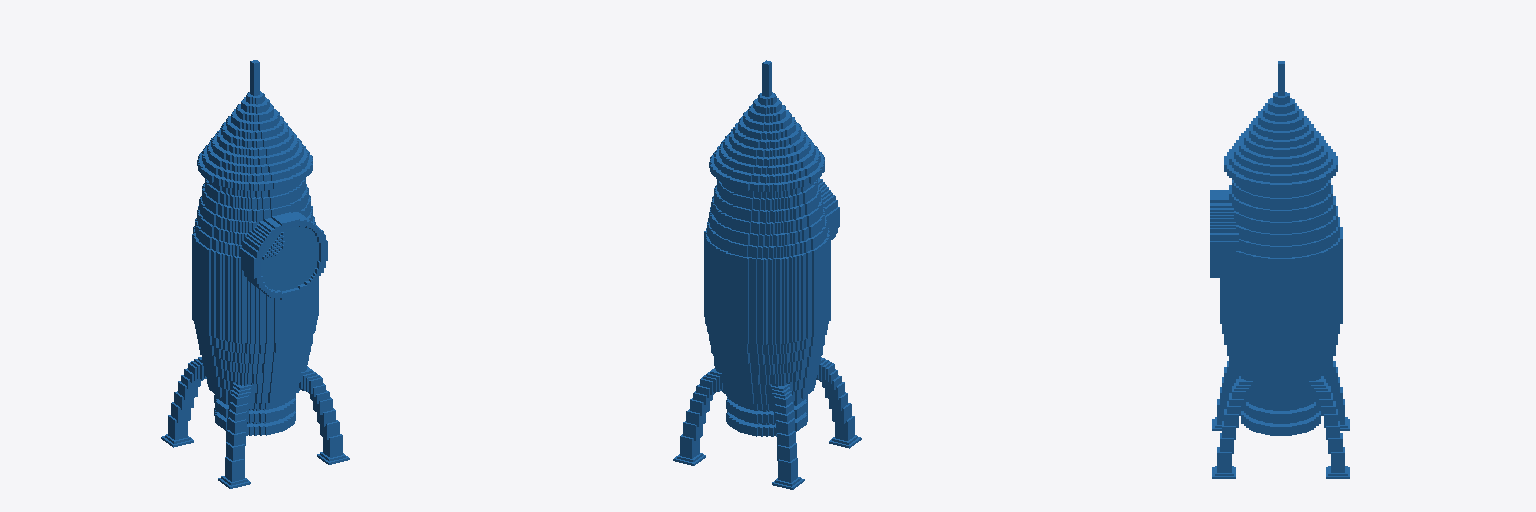
3 views of the same model, side by side, from view 1: azimuth 30°, elevation 25°; view 2: azimuth 150°, elevation 25°; view 3: azimuth 270°, elevation 25° (orthographic).
Parts seen in each view (by area): view 1: object 1; view 2: object 1; view 3: object 1.
Boxes of the visible parts, <box> form: object 1: <box>161,60,349,488</box>; object 1: <box>673,60,861,489</box>; object 1: <box>1210,61,1349,478</box>.
Bounding box in the file's own units: 5.7 × 17.7 × 5.8.
1 materials, 1 textured.